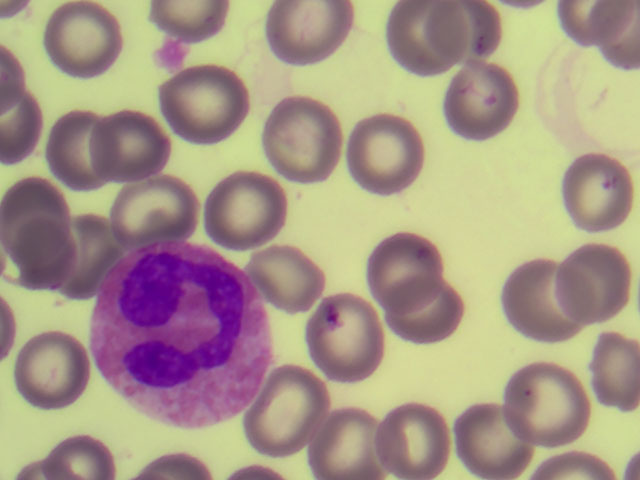Platelets: (147, 31, 190, 66)
RBC: (39, 108, 127, 193), (305, 395, 393, 480), (365, 395, 453, 480), (450, 395, 538, 480), (551, 151, 640, 235), (88, 108, 176, 192), (159, 64, 247, 148), (257, 95, 345, 179), (334, 111, 422, 195), (205, 169, 293, 253), (109, 173, 197, 257), (10, 328, 98, 412), (304, 295, 392, 379), (242, 240, 330, 324), (364, 226, 452, 310), (379, 267, 467, 351), (503, 256, 591, 340), (538, 236, 626, 320), (440, 64, 528, 148), (373, 1, 461, 85), (248, 373, 336, 457), (507, 362, 595, 446), (1, 180, 88, 264), (40, 1, 128, 84), (583, 330, 640, 415)
WBC: (94, 243, 265, 418)
